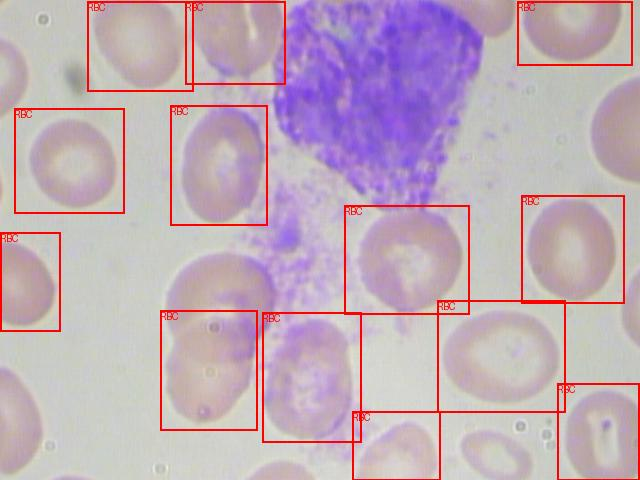RBC: (437, 300, 565, 412), (344, 205, 469, 314), (262, 312, 361, 442), (170, 105, 267, 225), (160, 310, 257, 430), (14, 108, 124, 213), (521, 195, 624, 303), (87, 1, 193, 91), (185, 1, 285, 84), (557, 383, 639, 480), (517, 1, 632, 65), (352, 411, 440, 480), (0, 232, 60, 331)
